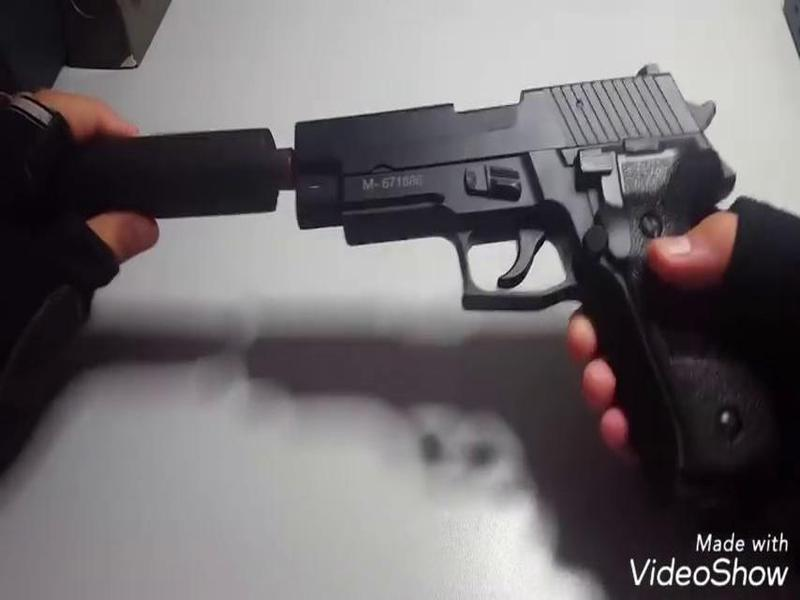Pistola: (284, 56, 800, 515)
